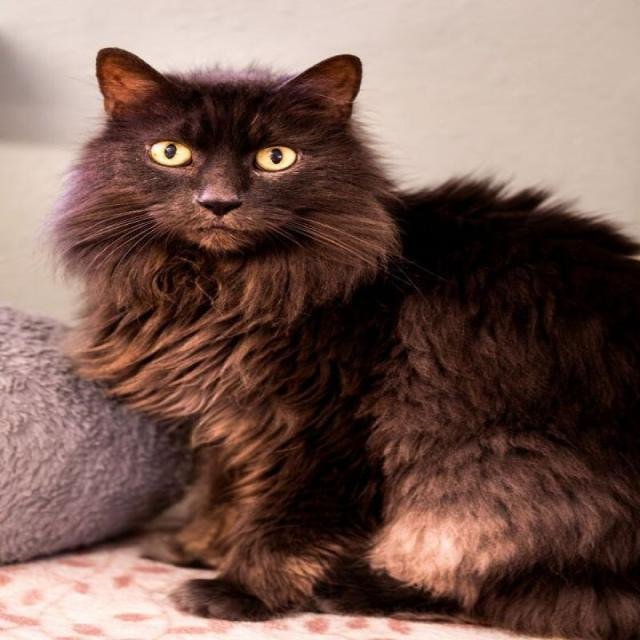domestic_long_hair_cat: (59, 34, 408, 325)
